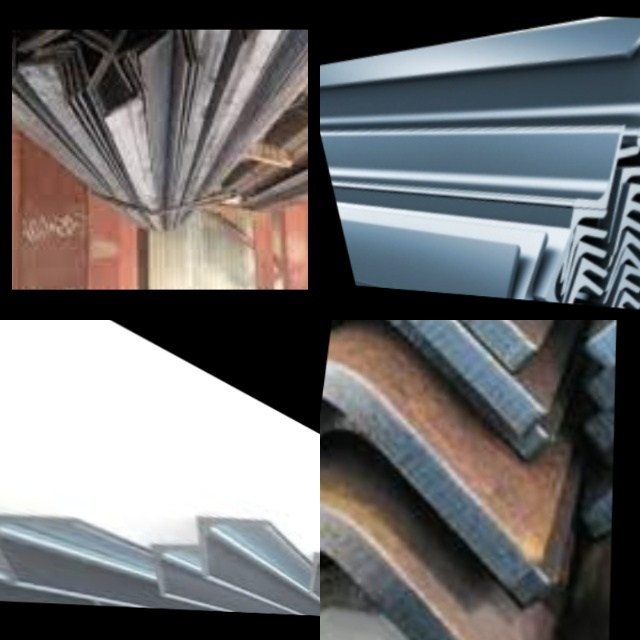Angle: (320, 378, 523, 579), (320, 418, 535, 599), (320, 320, 530, 457), (322, 320, 534, 428), (320, 527, 492, 640), (328, 320, 527, 379), (0, 503, 93, 586), (200, 505, 266, 579), (573, 130, 629, 209), (571, 549, 611, 640), (559, 226, 609, 292), (558, 244, 609, 306), (604, 167, 640, 239), (541, 234, 578, 304), (520, 235, 558, 302), (154, 542, 201, 592), (605, 200, 640, 265), (500, 248, 541, 301), (600, 250, 640, 303), (598, 394, 615, 516), (609, 187, 640, 248), (603, 238, 640, 286), (20, 65, 66, 103), (107, 62, 139, 116), (81, 30, 111, 82), (75, 35, 104, 86), (558, 274, 604, 306), (606, 267, 640, 310), (604, 320, 618, 392), (0, 552, 18, 602), (631, 43, 640, 135)
